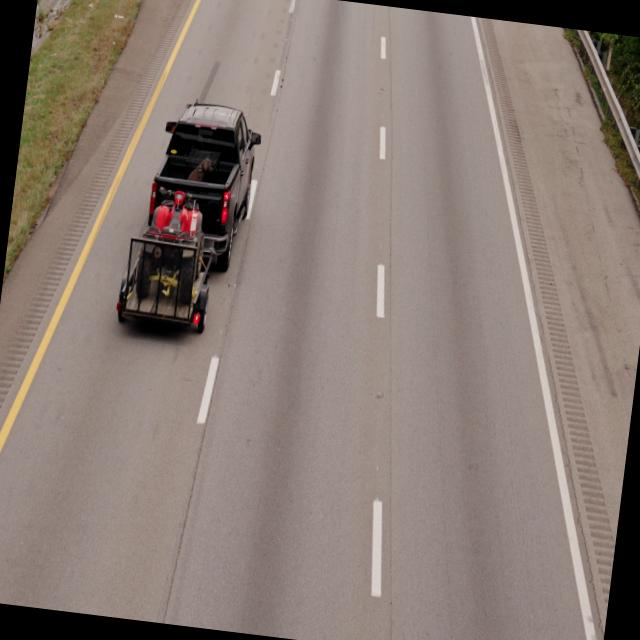Vehicle: (110, 93, 268, 351)
